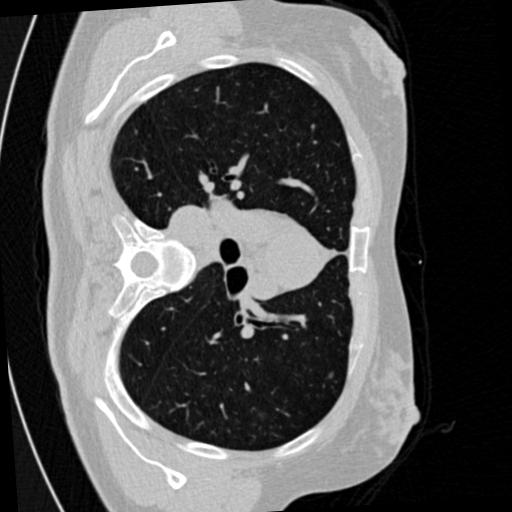nodule: (326, 372, 338, 384)
